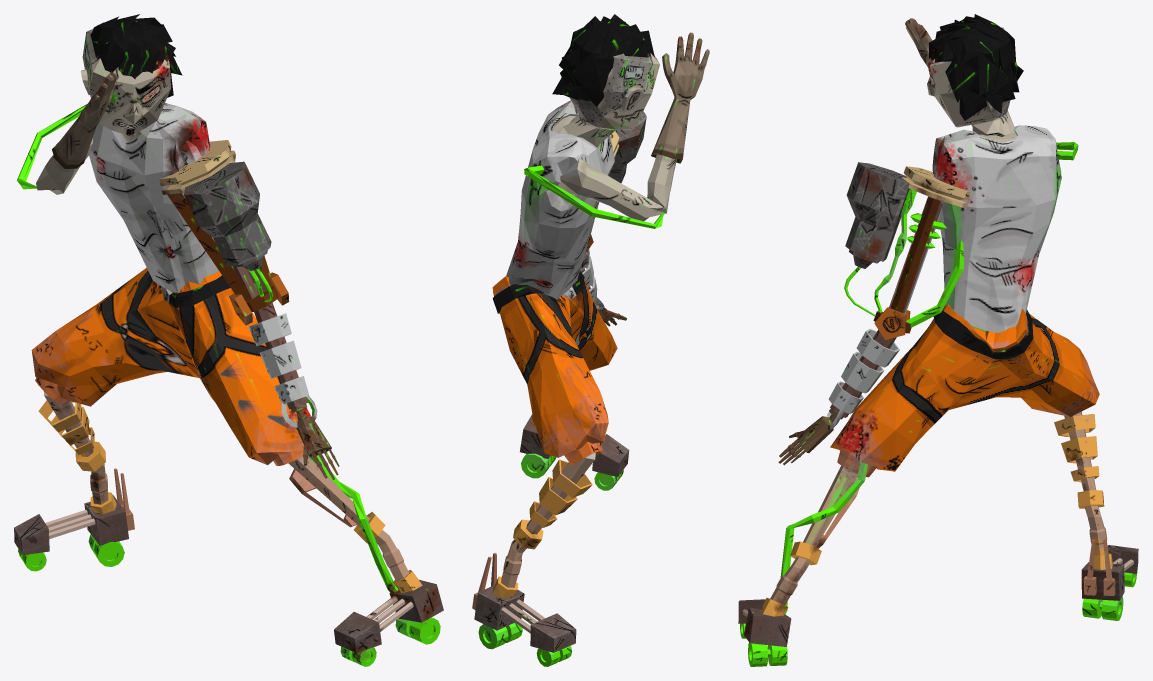
File: CyborgFINALAnimation_000020.obj
3 views of the same model, side by side, from view 1: azimuth 30°, elevation 25°; view 2: azimuth 150°, elevation 25°; view 3: azimuth 270°, elevation 25° (orthographic). The views are drawn at different scales.
Parts seen in each view (by area): view 1: CyborgMesh_Cube.002; view 2: CyborgMesh_Cube.002; view 3: CyborgMesh_Cube.002.
Part boxes in pixels (left/top/right/bottom): CyborgMesh_Cube.002: left=14, top=14, right=443, bottom=666; CyborgMesh_Cube.002: left=472, top=14, right=709, bottom=666; CyborgMesh_Cube.002: left=738, top=14, right=1138, bottom=666.
Size of the model in its own units: 4.15 by 8.66 by 5.44.
